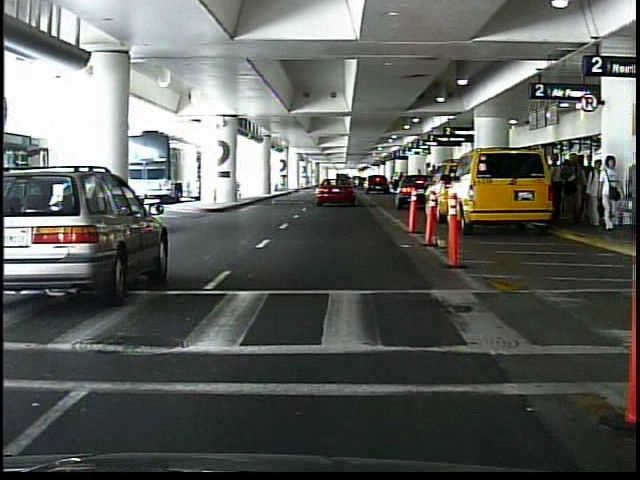person: (603, 154, 626, 230), (624, 154, 638, 230)
